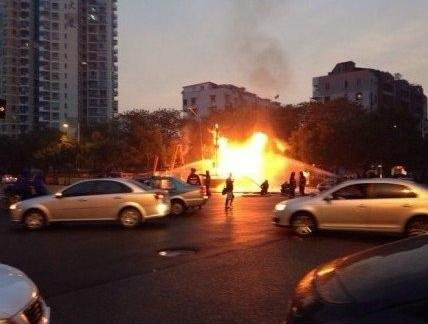fire: (203, 125, 287, 189)
